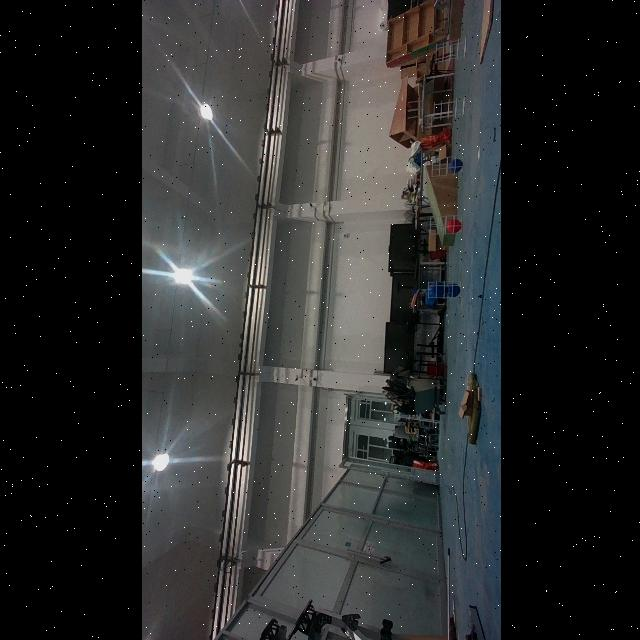B: (428, 282, 444, 298), (445, 282, 459, 300), (447, 158, 461, 175)
R: (446, 218, 460, 235)
S: (430, 36, 468, 64), (428, 154, 467, 180), (429, 96, 466, 122), (423, 278, 462, 302), (426, 214, 466, 236)
